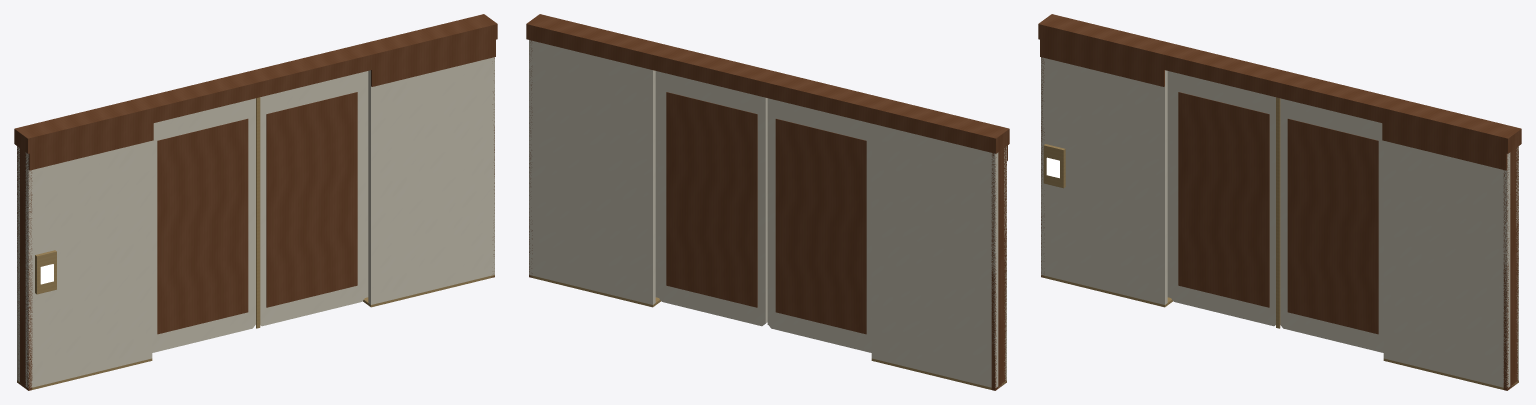
Rendered from AST-DOR-002_wide.glb.
The picture shows the model from 3 angles, left to right: view 1: azimuth 30°, elevation 25°; view 2: azimuth 150°, elevation 25°; view 3: azimuth 330°, elevation 25°; orthographic projection.
Visible parts, largest first — view 1: ENTRY_fixed_ivory_enamel, ENTRY_fixed_warm_walnut, ENTRY_moving_warm_walnut, ENTRY_moving_warm_walnut.001, ENTRY_moving_ivory_enamel.001, ENTRY_moving_ivory_enamel, ENTRY_fixed_champagne_metal, ENTRY_moving_champagne_metal; view 2: ENTRY_fixed_ivory_enamel, ENTRY_moving_warm_walnut, ENTRY_moving_warm_walnut.001, ENTRY_fixed_warm_walnut, ENTRY_moving_ivory_enamel.001, ENTRY_moving_ivory_enamel, ENTRY_fixed_champagne_metal; view 3: ENTRY_fixed_ivory_enamel, ENTRY_fixed_warm_walnut, ENTRY_moving_warm_walnut, ENTRY_moving_warm_walnut.001, ENTRY_moving_ivory_enamel, ENTRY_moving_ivory_enamel.001, ENTRY_fixed_champagne_metal, ENTRY_moving_champagne_metal.
Part boxes in pixels (box(x1,y1,x2,y2)): ENTRY_fixed_ivory_enamel: box(17, 57, 494, 387); ENTRY_fixed_warm_walnut: box(14, 14, 497, 390); ENTRY_moving_warm_walnut: box(157, 118, 248, 334); ENTRY_moving_warm_walnut.001: box(266, 92, 357, 307); ENTRY_moving_ivory_enamel.001: box(260, 71, 365, 326); ENTRY_moving_ivory_enamel: box(152, 98, 255, 352); ENTRY_fixed_champagne_metal: box(17, 250, 494, 390); ENTRY_moving_champagne_metal: box(256, 97, 260, 328); ENTRY_fixed_ivory_enamel: box(529, 40, 1006, 387); ENTRY_moving_warm_walnut: box(775, 118, 866, 334); ENTRY_moving_warm_walnut.001: box(666, 92, 757, 307); ENTRY_fixed_warm_walnut: box(526, 14, 1009, 390); ENTRY_moving_ivory_enamel.001: box(658, 71, 767, 326); ENTRY_moving_ivory_enamel: box(767, 98, 871, 352); ENTRY_fixed_champagne_metal: box(529, 275, 1006, 389); ENTRY_fixed_ivory_enamel: box(1041, 57, 1518, 387); ENTRY_fixed_warm_walnut: box(1038, 14, 1521, 390); ENTRY_moving_warm_walnut: box(1178, 92, 1269, 307); ENTRY_moving_warm_walnut.001: box(1287, 118, 1378, 334); ENTRY_moving_ivory_enamel: box(1170, 71, 1275, 326); ENTRY_moving_ivory_enamel.001: box(1280, 98, 1383, 352); ENTRY_fixed_champagne_metal: box(1041, 144, 1518, 390); ENTRY_moving_champagne_metal: box(1276, 97, 1280, 328).
Bounding box in the file's own units: 5.16 × 2.66 × 0.305.
4 materials, 3 textured.
